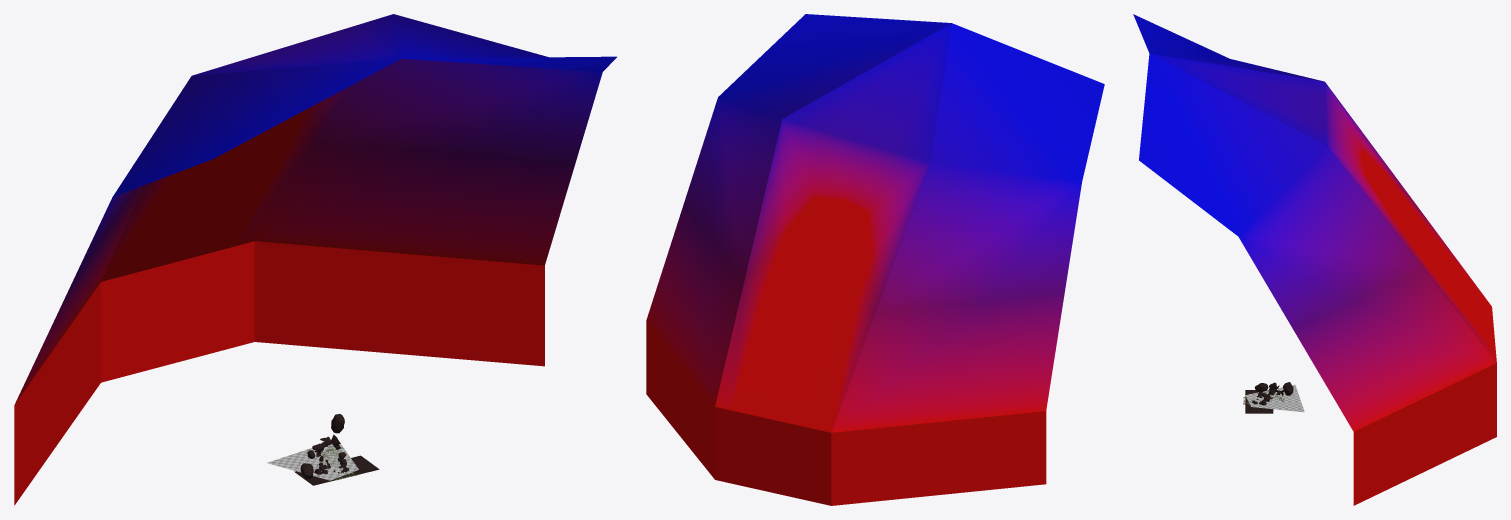
The model's file is DiancieScene.fbx.
3 views of the same model, side by side, from view 1: azimuth 30°, elevation 25°; view 2: azimuth 150°, elevation 25°; view 3: azimuth 270°, elevation 25° (orthographic). The views are drawn at different scales.
Parts seen in each view (by area): view 1: SkyDomeGeo, GroundPlaneGeo; view 2: SkyDomeGeo; view 3: SkyDomeGeo, GroundPlaneGeo.
Part boxes in pixels (box(x1,y1,x2,y2)): SkyDomeGeo: box(14, 14, 616, 505); GroundPlaneGeo: box(267, 443, 358, 480); SkyDomeGeo: box(646, 14, 1104, 505); SkyDomeGeo: box(1133, 14, 1496, 505); GroundPlaneGeo: box(1245, 384, 1304, 412).
Bounding box in the file's own units: 138 × 117 × 110.
